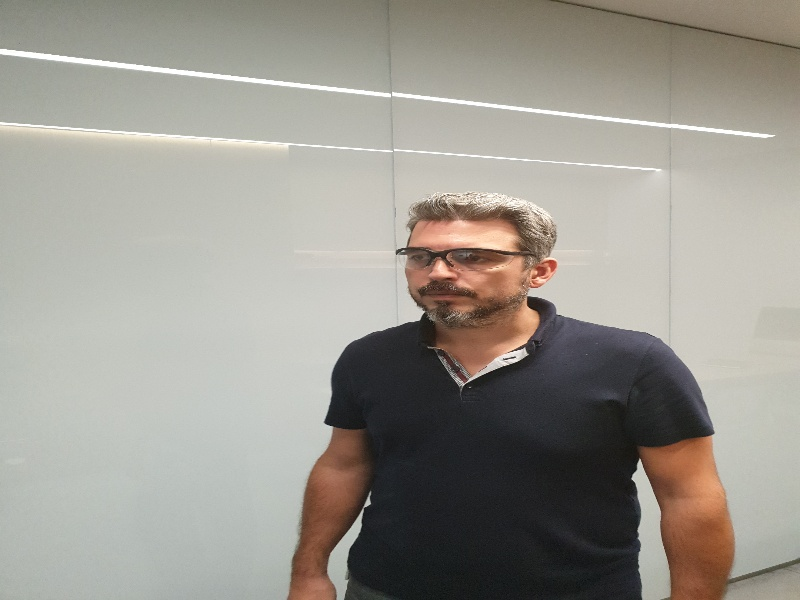Gozluk: (395, 247, 535, 271)
